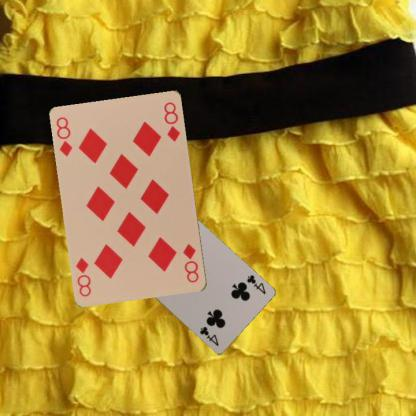4c: (244, 272, 267, 295)
8d: (54, 114, 74, 158), (180, 241, 200, 284)
